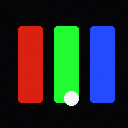2 circle: (64, 91, 78, 105)
